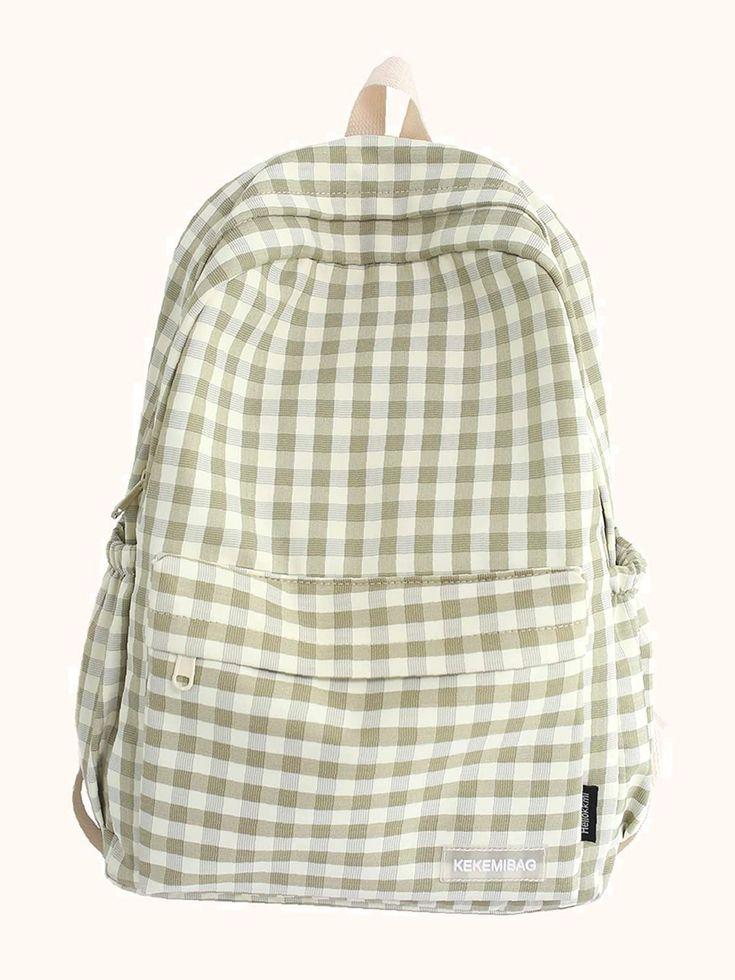nylon: (73, 55, 655, 914)
